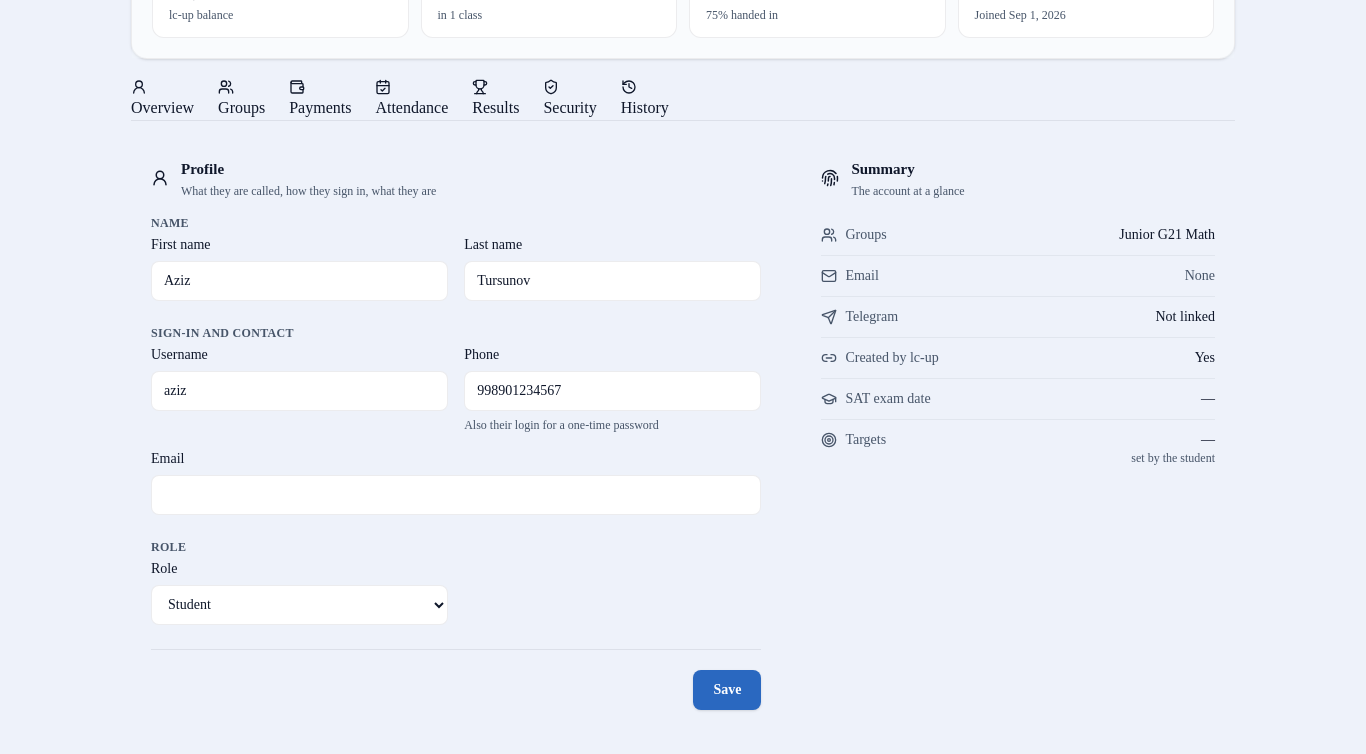
Test: the Overview › shows the server's reason inline when a save is refused
(page scrolled)
What coordinates should you click on to do the following:
click the button "Save"
I would click on:
 (727, 690)
Its box is [693, 670, 761, 710].
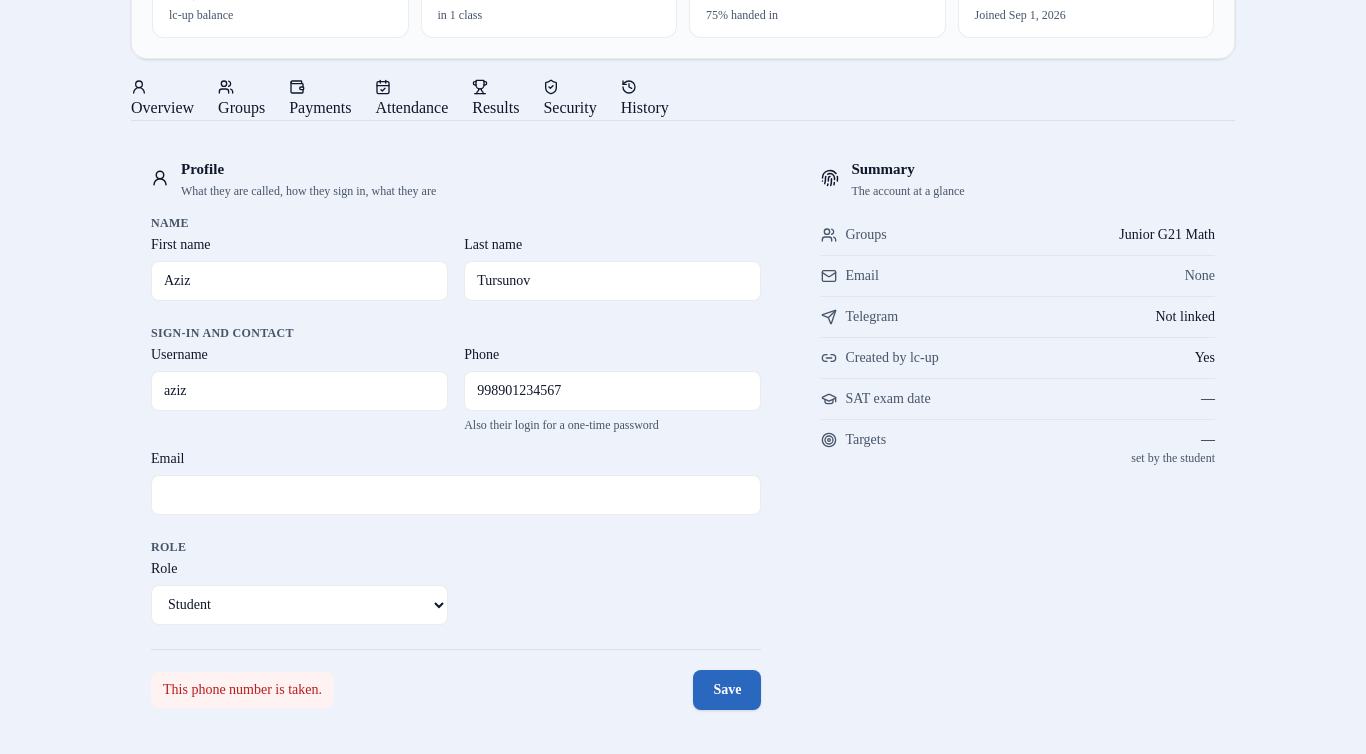
Result: the element named "Profile" shows "This phone number is taken." at [163, 682, 322, 697]
